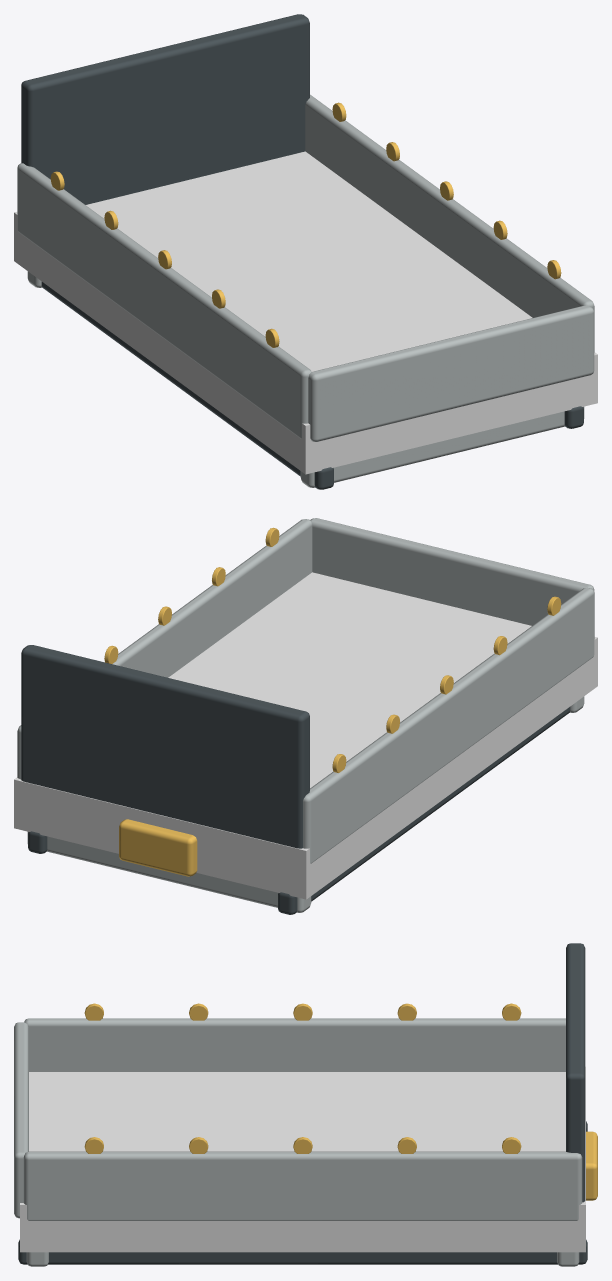
The model's file is Module_Cargo.fbx.
3 renders of one model, top to bottom at view 1: azimuth 30°, elevation 25°; view 2: azimuth 150°, elevation 25°; view 3: azimuth 270°, elevation 25°, orthographic. The views are drawn at different scales.
Parts seen in each view (by area): view 1: COL_Bed, Cab guard, Folded side gate, Rear flap, Folded side gate.001, Load frame cross rail, Load frame longitudinal; view 2: COL_Bed, Cab guard, Folded side gate, Rear flap, Folded side gate.001, Load frame cross rail.001, Hydraulic and electric coupling block, Load frame longitudinal; view 3: COL_Bed, Folded side gate.001, Folded side gate, Load frame longitudinal.001, Cab guard, Rear flap, Hydraulic and electric coupling block.
Boxes of the visible parts, x1,y1,x2,y2 form: COL_Bed: (14, 151, 597, 474); Cab guard: (21, 14, 309, 204); Folded side gate: (17, 163, 311, 438); Rear flap: (308, 305, 594, 441); Folded side gate.001: (305, 94, 594, 352); Load frame cross rail: (300, 406, 584, 487); Load frame longitudinal: (41, 282, 333, 489); COL_Bed: (14, 572, 597, 899); Cab guard: (21, 645, 309, 848); Folded side gate: (303, 587, 594, 863); Rear flap: (310, 518, 594, 625); Folded side gate.001: (17, 519, 312, 779); Load frame cross rail.001: (27, 832, 311, 912); Hydraulic and electric coupling block: (119, 819, 197, 876); Load frame longitudinal: (278, 707, 570, 914); COL_Bed: (20, 1066, 585, 1252); Folded side gate.001: (23, 1151, 582, 1220); Folded side gate: (24, 1018, 565, 1071); Load frame longitudinal.001: (18, 1239, 587, 1264); Cab guard: (566, 943, 585, 1202); Rear flap: (14, 1022, 28, 1218); Hydraulic and electric coupling block: (586, 1131, 597, 1200).
Size of the model in its own units: 2.21 by 1.45 by 3.92.
